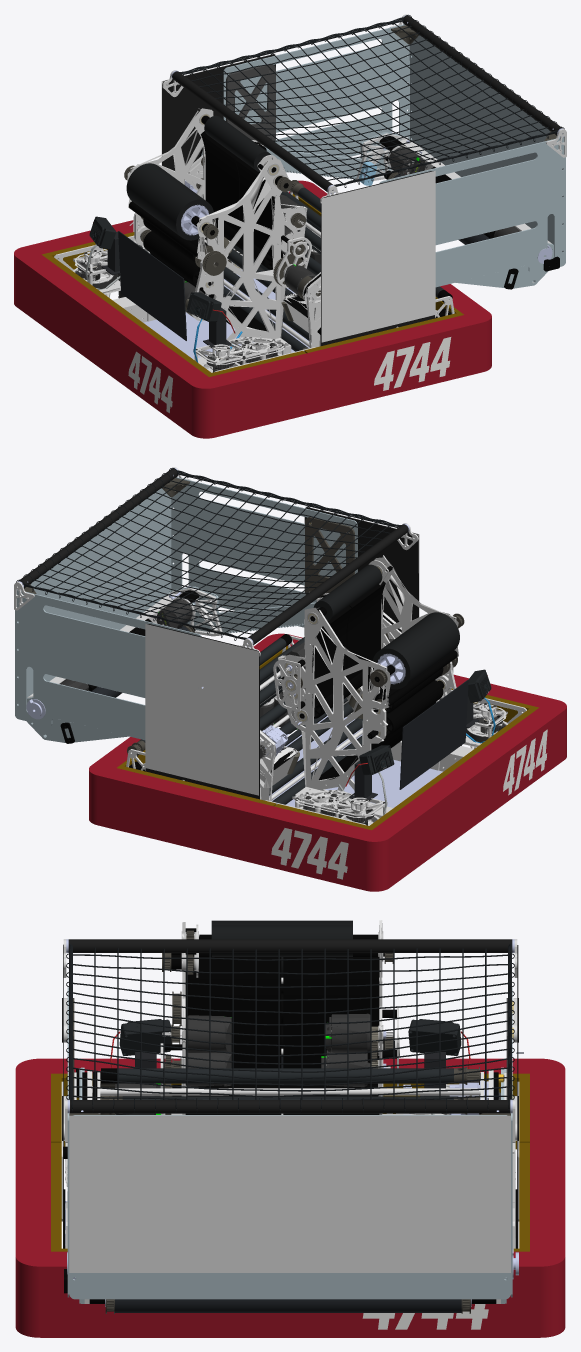
The model's file is Turbo4744.fbx.
3 views of the same model, one above another, from view 1: azimuth 30°, elevation 25°; view 2: azimuth 150°, elevation 25°; view 3: azimuth 270°, elevation 25° (orthographic). The views are drawn at different scales.
Visible parts, largest first — view 1: Chassis_Geometry, Hopper_Geometry, Bumpers_Geometry, RoofNet_Geometry, KickerMount_Geometry, Lettering_Geometry, Intake_Geometry; view 2: Chassis_Geometry, Hopper_Geometry, Bumpers_Geometry, RoofNet_Geometry, Intake_Geometry, KickerMount_Geometry, Lettering_Geometry; view 3: Hopper_Geometry, Chassis_Geometry, Bumpers_Geometry, RoofNet_Geometry, IntakeRoller_Geometry, IndexerUpper04_Geometry, Lettering_Geometry, IndexerUpper01_Geometry, IndexerUpper03_Geometry.
Part boxes in pixels (x1,y1,x2,y2): Chassis_Geometry: (42, 53, 463, 376); Hopper_Geometry: (223, 14, 566, 287); Bumpers_Geometry: (14, 180, 491, 438); RoofNet_Geometry: (179, 14, 564, 190); KickerMount_Geometry: (356, 132, 552, 289); Lettering_Geometry: (128, 337, 451, 413); Intake_Geometry: (199, 132, 553, 288); Chassis_Geometry: (117, 506, 538, 830); Hopper_Geometry: (14, 467, 357, 740); Bumpers_Geometry: (89, 633, 566, 891); RoofNet_Geometry: (16, 467, 401, 643); Intake_Geometry: (27, 586, 315, 742); KickerMount_Geometry: (26, 586, 222, 743); Lettering_Geometry: (271, 729, 547, 879); Hopper_Geometry: (64, 987, 515, 1299); Chassis_Geometry: (51, 920, 529, 1251); Bumpers_Geometry: (15, 1058, 565, 1337); RoofNet_Geometry: (66, 943, 514, 1113); IntakeRoller_Geometry: (115, 1299, 461, 1312); IndexerUpper04_Geometry: (117, 1068, 461, 1083); Lettering_Geometry: (362, 1304, 488, 1329); IndexerUpper01_Geometry: (122, 1098, 461, 1113); IndexerUpper03_Geometry: (122, 1096, 458, 1097).
Size of the model in its own units: 1.03 by 0.5591 by 0.894.
